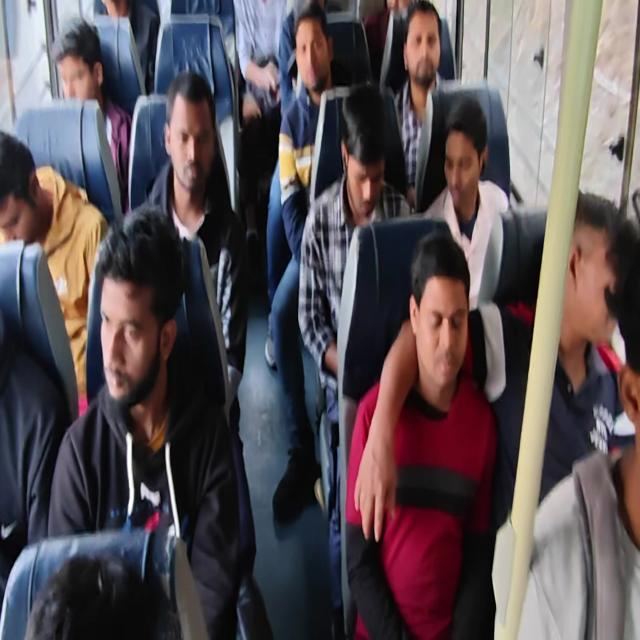person: (1, 1, 638, 638), (356, 189, 636, 530), (46, 203, 241, 638), (297, 82, 411, 636), (344, 229, 498, 638), (516, 232, 639, 639), (267, 2, 350, 522), (140, 69, 250, 428), (535, 190, 634, 508), (0, 130, 109, 410), (420, 96, 509, 311), (51, 17, 132, 213), (24, 551, 181, 639), (389, 0, 448, 212), (233, 0, 287, 125), (363, 0, 412, 87)
